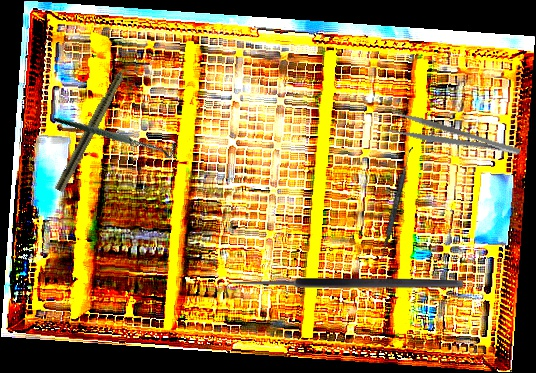Dressing Forceps: (387, 109, 522, 169)
Handpiece: (54, 46, 140, 194)
Hook Surgical: (52, 70, 181, 197), (226, 278, 463, 300)
Spatula Surgical: (380, 145, 413, 260)
